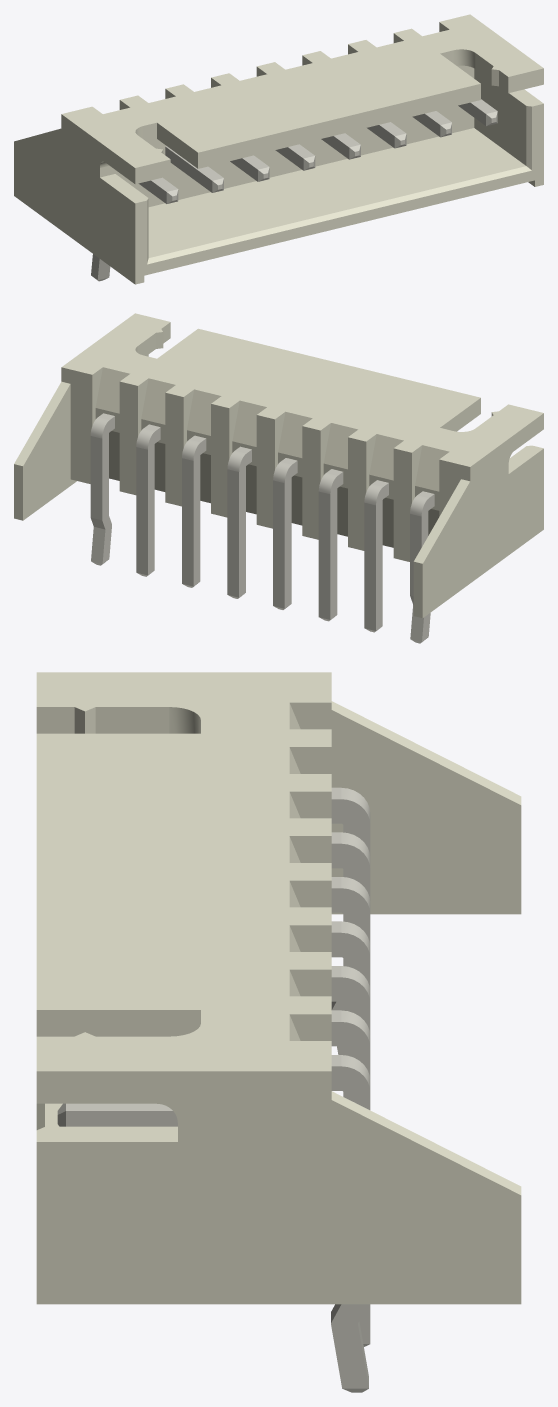
The model's file is kc-jst_xh_s8b-xh-a-1_1x08_p2.50mm_horizontal.glb.
3 renders of one model, top to bottom at view 1: azimuth 30°, elevation 25°; view 2: azimuth 150°, elevation 25°; view 3: azimuth 270°, elevation 25°, orthographic. The views are drawn at different scales.
Visible parts, largest first — view 1: 0.75_0.75_0.5833333333333334_0, 0.6666666666666666_0.6666666666666666_0.5833333333333334_0.8; view 2: 0.75_0.75_0.5833333333333334_0, 0.6666666666666666_0.6666666666666666_0.5833333333333334_0.8; view 3: 0.75_0.75_0.5833333333333334_0, 0.6666666666666666_0.6666666666666666_0.5833333333333334_0.8.
Part boxes in pixels (box(x1,y1,x2,y2)): 0.75_0.75_0.5833333333333334_0: box(14, 14, 543, 284); 0.6666666666666666_0.6666666666666666_0.5833333333333334_0.8: box(91, 99, 497, 281); 0.75_0.75_0.5833333333333334_0: box(14, 313, 543, 618); 0.6666666666666666_0.6666666666666666_0.5833333333333334_0.8: box(90, 413, 434, 643); 0.75_0.75_0.5833333333333334_0: box(36, 672, 521, 1304); 0.6666666666666666_0.6666666666666666_0.5833333333333334_0.8: box(57, 787, 370, 1392).
Bounding box in the file's own units: 2.24 × 0.9501 × 1.15.
